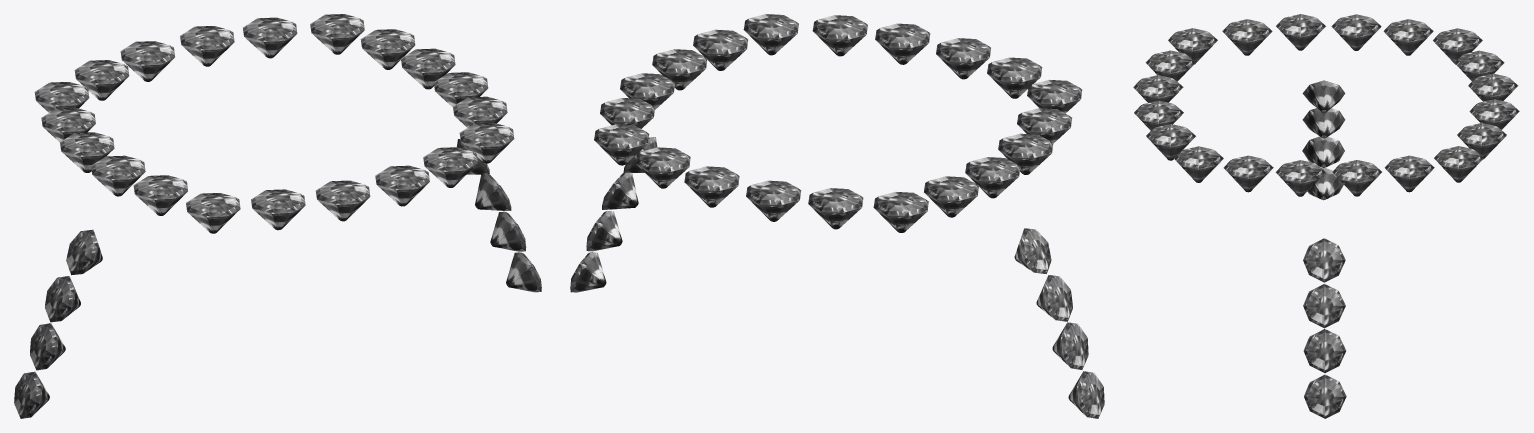
Rendered from zalesRing_diamonds.obj.
The picture shows the model from 3 angles, left to right: view 1: azimuth 30°, elevation 25°; view 2: azimuth 150°, elevation 25°; view 3: azimuth 270°, elevation 25°; orthographic projection. The views are drawn at different scales.
Visible parts, largest first — view 1: zalesRing_diamonds:polySurface62; view 2: zalesRing_diamonds:polySurface62; view 3: zalesRing_diamonds:polySurface62.
Boxes of the visible parts, x1,y1,x2,y2 form: zalesRing_diamonds:polySurface62: (14,14,541,418); zalesRing_diamonds:polySurface62: (570,14,1104,418); zalesRing_diamonds:polySurface62: (1133,14,1519,418).
Size of the model in its own units: 6.39 by 2.89 by 4.73.
1 material, 1 textured.
